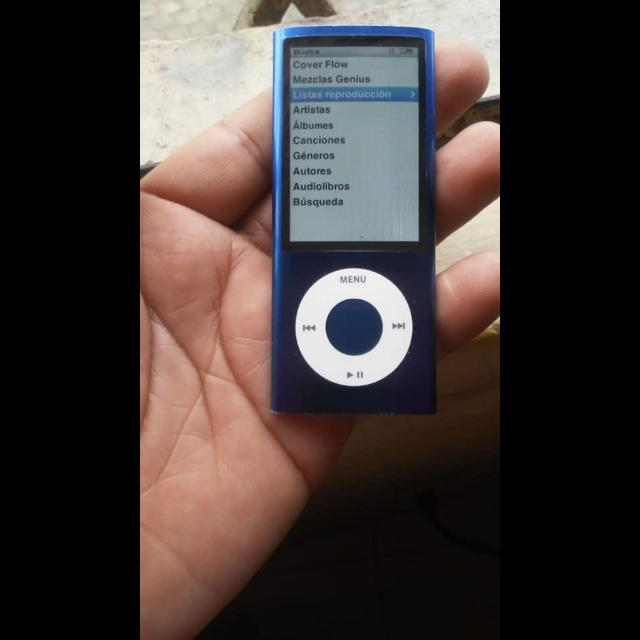Music-Player: (256, 18, 449, 426)
